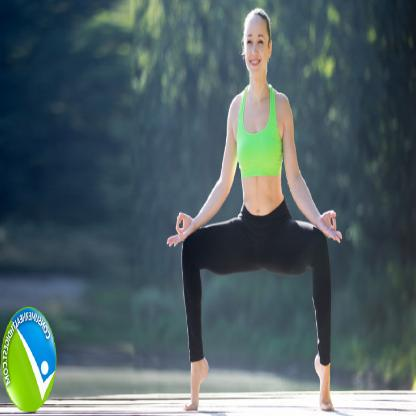godness: (164, 2, 348, 416)
